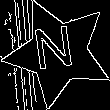N_S: (35, 25, 82, 80)
